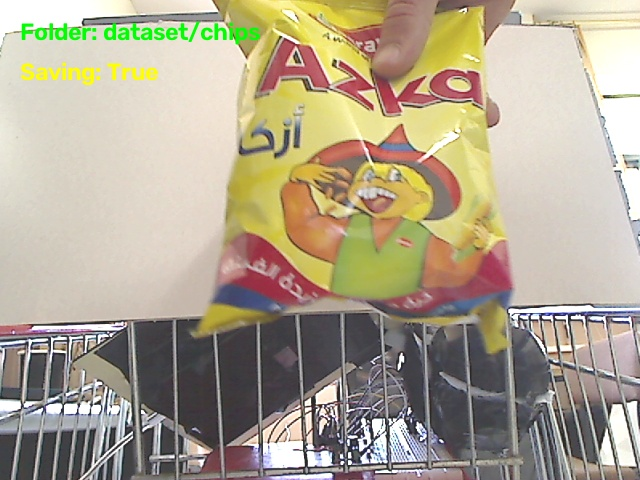chips: (196, 0, 510, 351)
